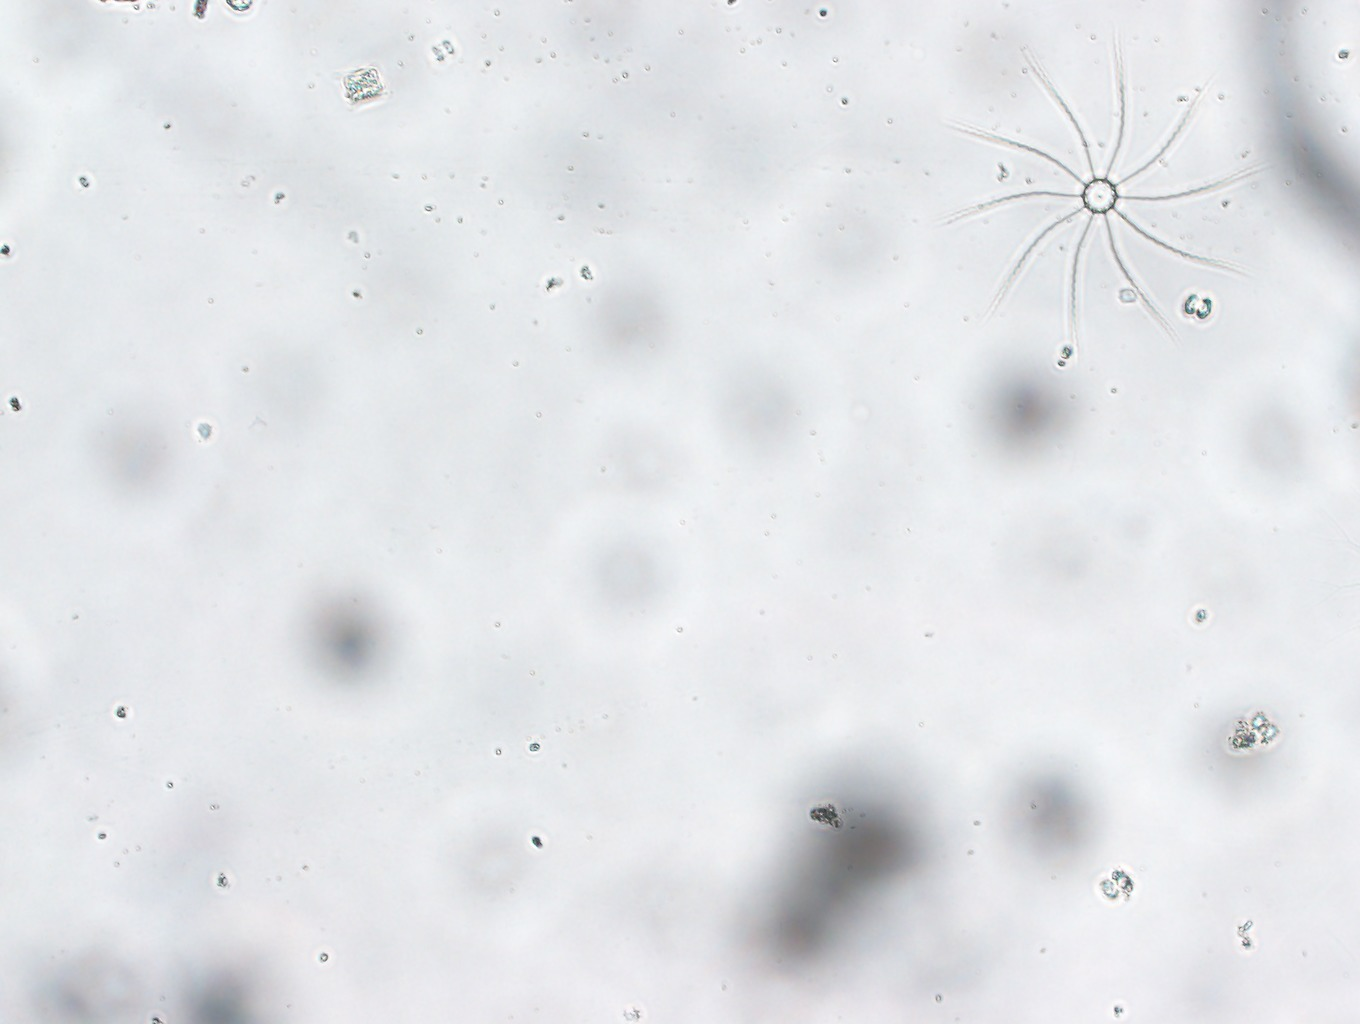bacteriastrum: (932, 30, 1264, 357)
